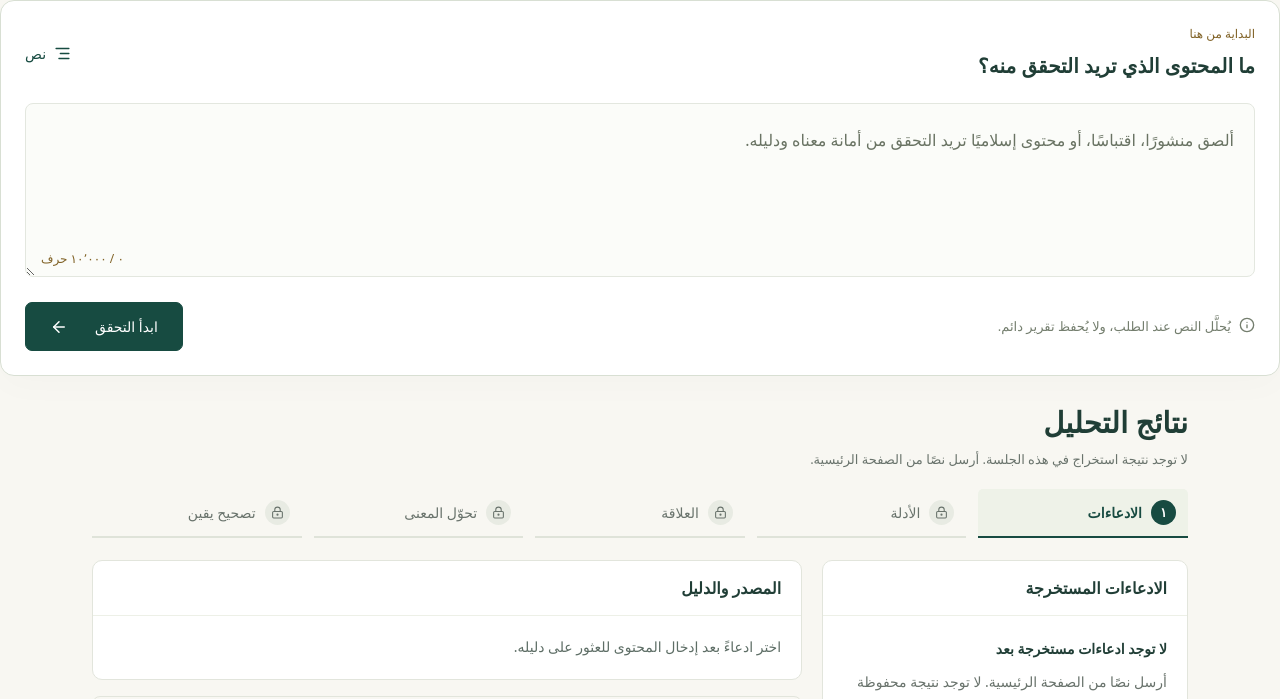
it: claim extraction UI › shows an error for AI_NOT_CONFIGURED without navigation
Type "A sufficiently long statement." into the text box at (640, 190), box [25,103,1255,277]
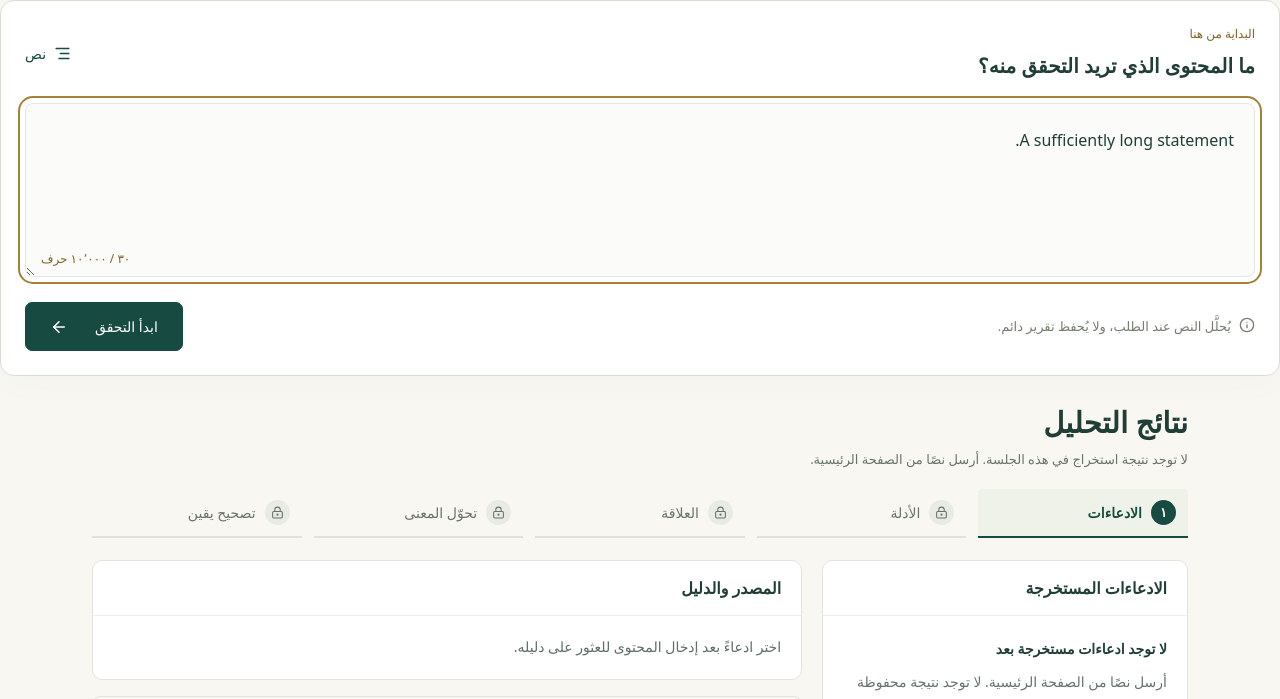
Click the button "ابدأ التحقق" at (104, 326), box [25,302,183,351]
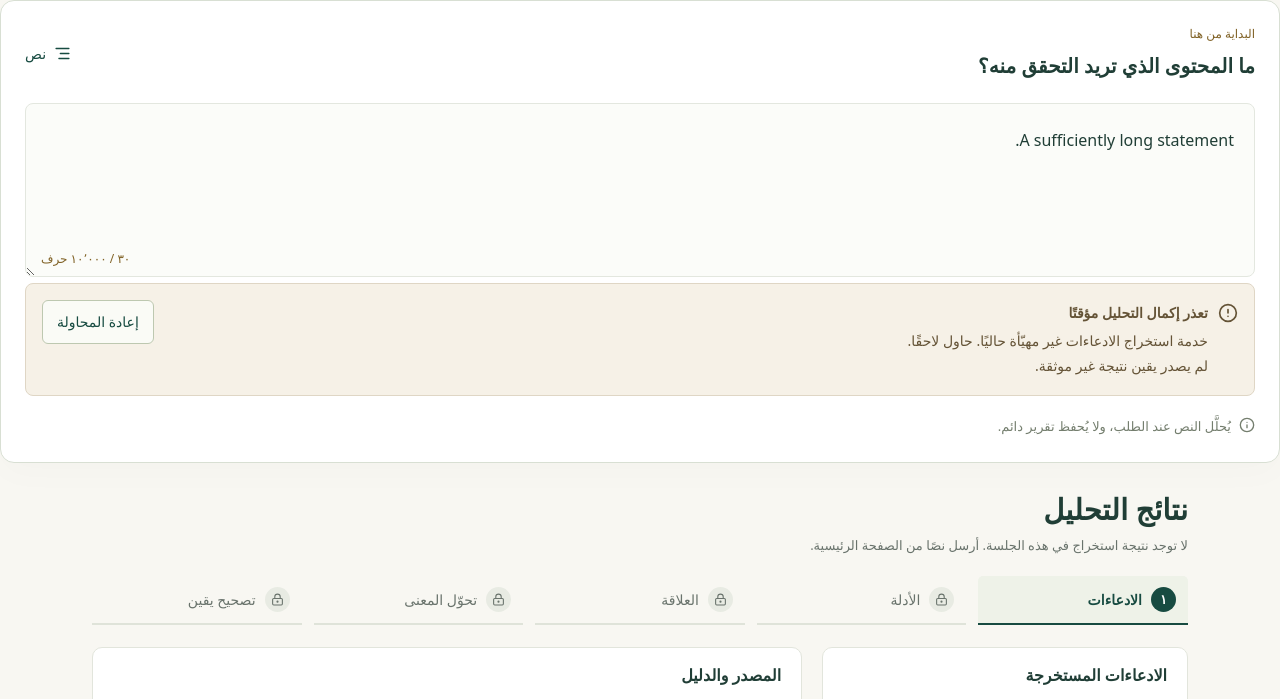
Check: the message that starts with "تعذر إكمال التحليل مؤقتًا" is not empty, box [25,283,1255,396]
Check: the button "إعادة المحاولة" is enabled, box [42,300,154,344]
